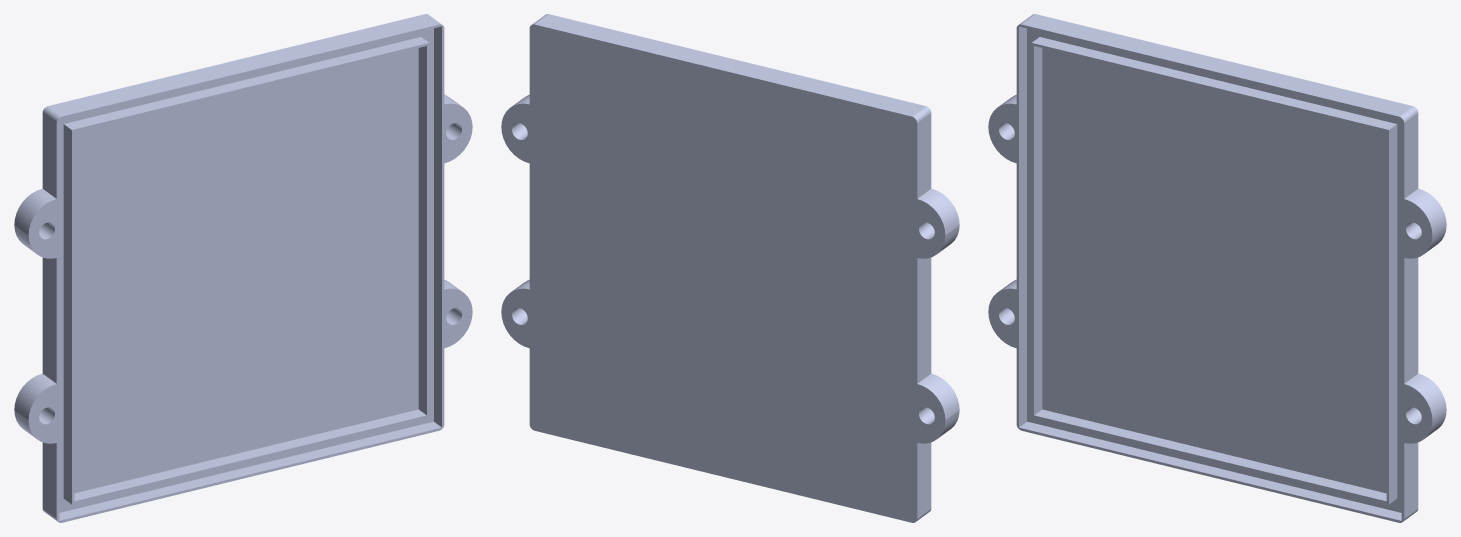
Rendered from Telem_Top.glb.
The picture shows the model from 3 angles, left to right: view 1: azimuth 30°, elevation 25°; view 2: azimuth 150°, elevation 25°; view 3: azimuth 330°, elevation 25°; orthographic projection.
Parts seen in each view (by area): view 1: empty_5, empty_2, empty_3, empty_4; view 2: empty_5, empty_2, empty_4, empty_3; view 3: empty_5, empty_2, empty_3, empty_4.
Part boxes in pixels (x1,y1,x2,y2): empty_5: [74, 48, 418, 493]; empty_2: [14, 14, 472, 522]; empty_3: [63, 37, 429, 504]; empty_4: [59, 28, 433, 512]; empty_5: [547, 46, 899, 501]; empty_2: [501, 14, 959, 522]; empty_4: [532, 26, 914, 520]; empty_3: [544, 43, 901, 504]; empty_5: [1042, 48, 1386, 493]; empty_2: [988, 14, 1446, 522]; empty_3: [1031, 37, 1397, 504]; empty_4: [1027, 28, 1401, 512].
Size of the model in its own units: 126 by 110 by 7.
